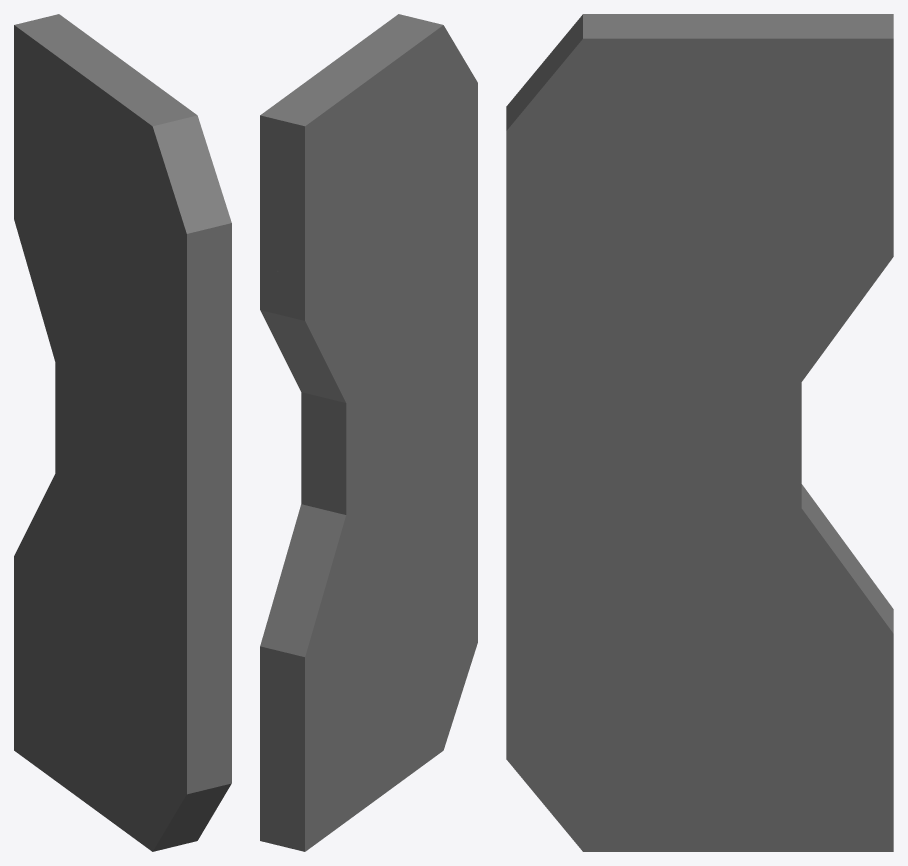
Rendered from PuertaHembra.fbx.
The picture shows the model from 3 angles, left to right: view 1: azimuth 30°, elevation 25°; view 2: azimuth 150°, elevation 25°; view 3: azimuth 270°, elevation 25°; orthographic projection. The views are drawn at different scales.
Visible parts, largest first — view 1: PuertaHembra; view 2: PuertaHembra; view 3: PuertaHembra.
Boxes of the visible parts, left/top/right/bottom form: PuertaHembra: left=14, top=14, right=231, bottom=851; PuertaHembra: left=260, top=14, right=477, bottom=851; PuertaHembra: left=506, top=14, right=893, bottom=851.
Size of the model in its own units: 37.95 by 585 by 252.
1 material, 1 textured.
